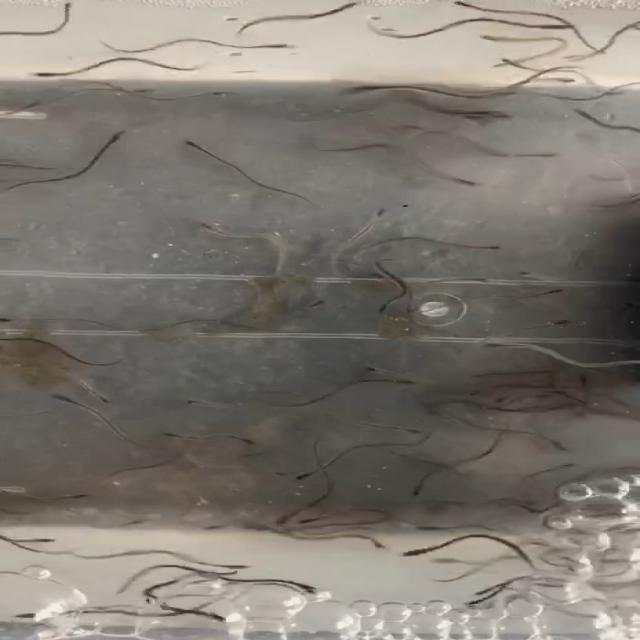active_glass_eel: (488, 332, 538, 357), (471, 230, 518, 254), (528, 434, 574, 456), (390, 544, 440, 563), (210, 554, 253, 576), (82, 128, 129, 148), (248, 32, 288, 54), (404, 480, 446, 500), (272, 582, 324, 598), (446, 173, 492, 191), (118, 82, 158, 102), (548, 456, 588, 476), (482, 267, 530, 283), (81, 391, 123, 409), (562, 108, 608, 124), (29, 62, 62, 84), (293, 467, 332, 485), (351, 360, 386, 380), (182, 396, 216, 416), (168, 46, 198, 68), (30, 530, 66, 548), (44, 0, 76, 20), (190, 218, 230, 234), (178, 132, 212, 150), (358, 203, 392, 220), (299, 294, 335, 310), (370, 304, 406, 320), (344, 18, 396, 29), (328, 84, 372, 97), (540, 316, 578, 331), (406, 523, 446, 537), (46, 389, 74, 408), (487, 564, 519, 580), (200, 82, 236, 96), (541, 286, 569, 304), (64, 484, 91, 502), (391, 423, 422, 438), (226, 435, 256, 450), (360, 540, 391, 554), (548, 52, 578, 66), (563, 66, 593, 80), (264, 514, 294, 528), (498, 52, 524, 68), (156, 428, 182, 444), (284, 512, 318, 524), (380, 256, 408, 270), (447, 0, 473, 15), (552, 22, 576, 38), (335, 0, 365, 12), (388, 376, 418, 388)
